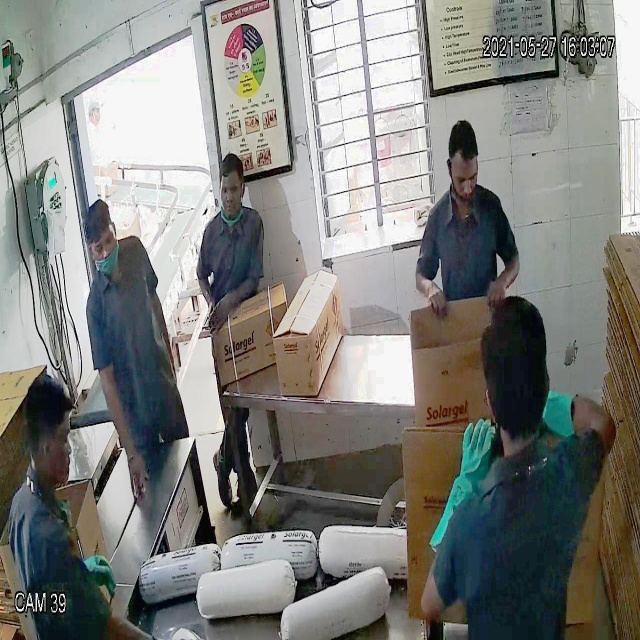Sin_gafas: (83, 228, 126, 260), (447, 160, 480, 189), (215, 177, 248, 204)
